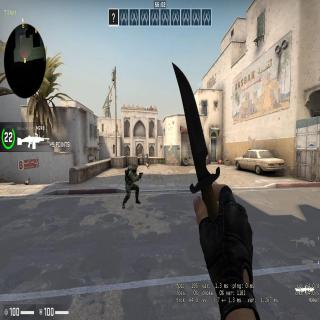CT-Body: (122, 159, 142, 203)
CT-Head: (132, 164, 138, 173)
